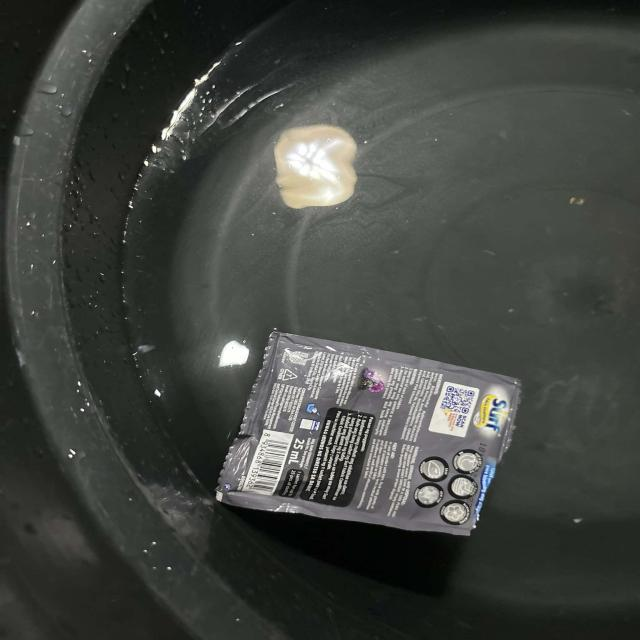Plastic Wrapper: (200, 313, 510, 533)
